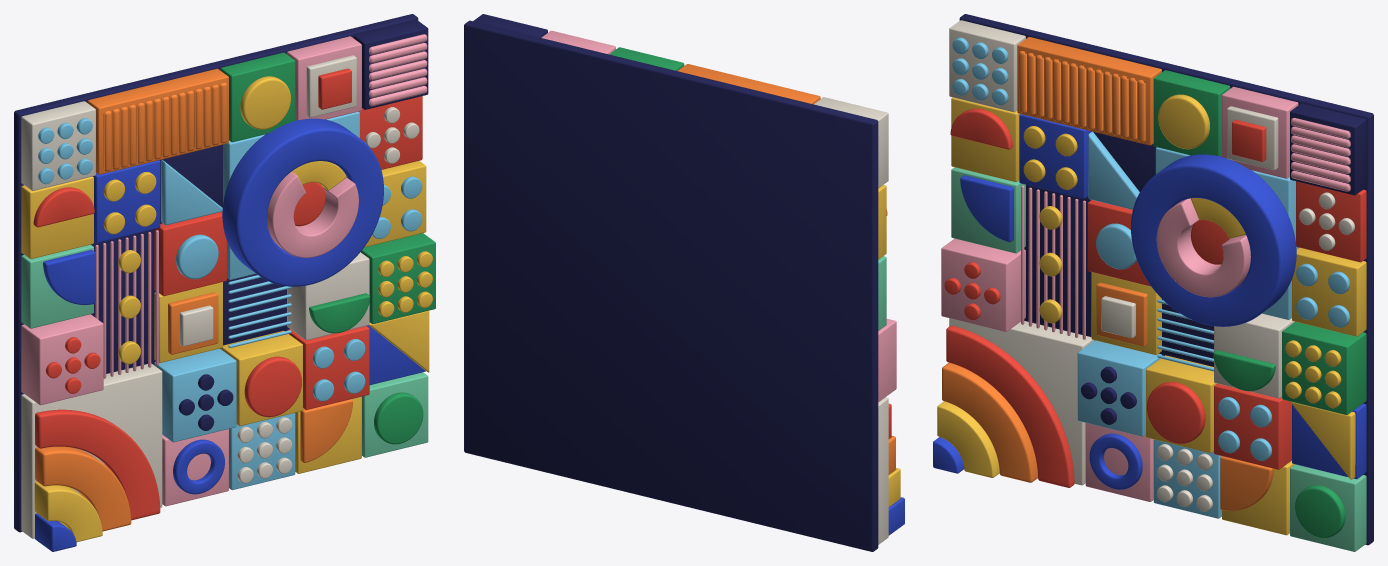
3 views of the same model, side by side, from view 1: azimuth 30°, elevation 25°; view 2: azimuth 150°, elevation 25°; view 3: azimuth 330°, elevation 25° (orthographic). The views are drawn at different scales.
Visible parts, largest first — view 1: ring_out, t40, backplate, arc0, t30, t42, ring_mid, arc1, t00, t21, t01, t35 (+54 smaller); view 2: backplate, t40, t01, t00, t30, t04, t03, t05, t20, t10; view 3: ring_out, backplate, arc0, t40, t30, arc1, ring_mid, t35, t42, t21, t01, t25 (+56 smaller).
Boxes of the visible parts, <box> form: ring_out: <box>222,118,383,286</box>; t40: <box>21,363,162,538</box>; backplate: <box>14,14,418,532</box>; arc0: <box>35,409,160,520</box>; t30: <box>21,314,103,405</box>; t42: <box>154,348,236,442</box>; ring_mid: <box>267,171,358,257</box>; arc1: <box>35,446,131,531</box>; t00: <box>21,101,95,190</box>; t21: <box>91,229,153,372</box>; t01: <box>87,68,228,174</box>; t35: <box>361,233,435,324</box>; backplate: <box>464,20,878,551</box>; t40: <box>878,397,888,544</box>; t01: <box>677,64,820,104</box>; t00: <box>814,97,888,187</box>; t30: <box>878,318,896,401</box>; t04: <box>541,30,615,54</box>; t03: <box>609,47,684,70</box>; t05: <box>473,14,547,37</box>; t20: <box>878,256,886,330</box>; t10: <box>878,185,886,259</box>; ring_out: <box>1131,154,1296,326</box>; backplate: <box>959,14,1373,545</box>; arc0: <box>946,325,1074,487</box>; t40: <box>949,318,1093,485</box>; t30: <box>941,238,1025,331</box>; arc1: <box>942,362,1037,482</box>; ring_mid: <box>1156,198,1250,297</box>; t35: <box>1282,321,1366,414</box>; t42: <box>1077,340,1161,436</box>; t21: <box>1027,185,1091,335</box>; t01: <box>1017,37,1161,145</box>; t25: <box>1292,247,1366,336</box>.
Size of the model in its own units: 1.2 by 1.2 by 0.19.
